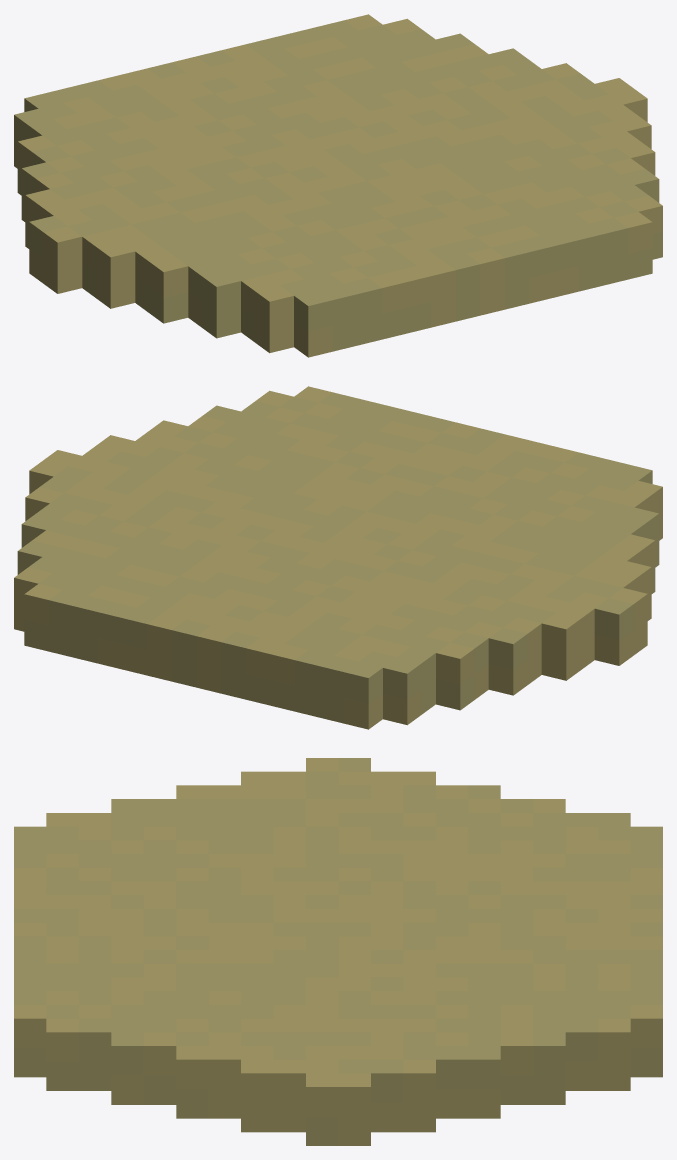
The model's file is overworld-30-sand_2px.obj.
3 renders of one model, top to bottom at view 1: azimuth 30°, elevation 25°; view 2: azimuth 150°, elevation 25°; view 3: azimuth 270°, elevation 25°, orthographic. The views are drawn at different scales.
Visible parts, largest first — view 1: sand_2px; view 2: sand_2px; view 3: sand_2px.
Boxes of the visible parts, box(x1,y1,x2,y2) form: sand_2px: box(14, 14, 662, 357); sand_2px: box(14, 386, 662, 729); sand_2px: box(14, 758, 662, 1145).
Bounding box in the file's own units: 2.4 × 0.2 × 2.
Materials: 1 (1 with a texture image).
